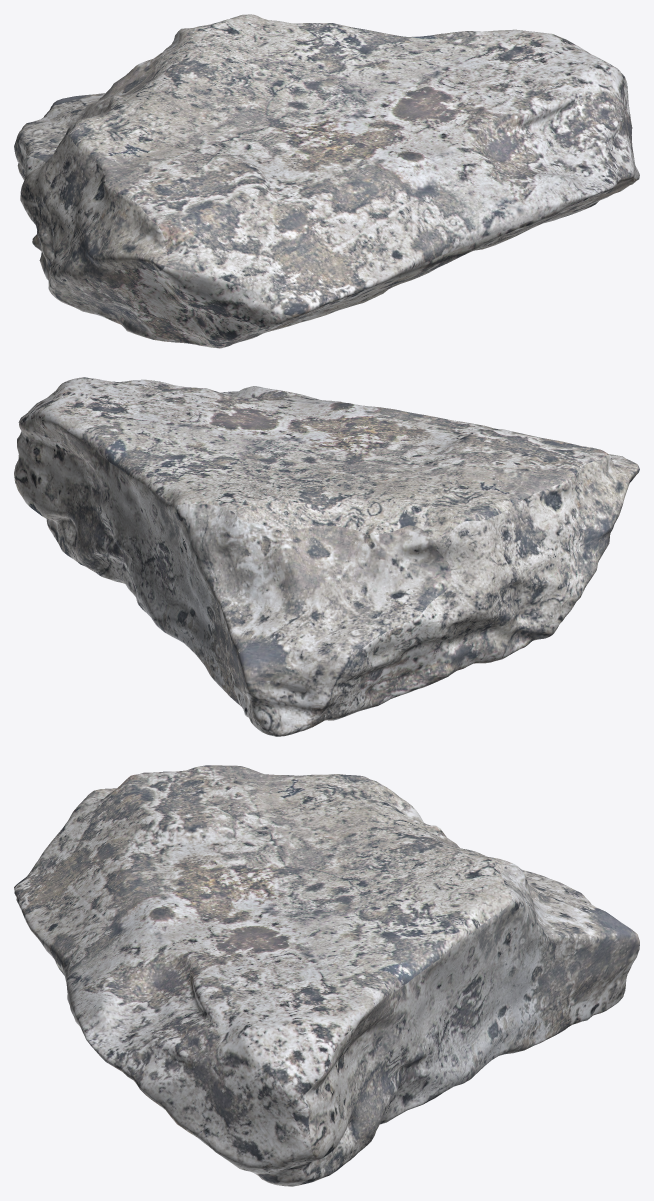
Rendered from SM_Small_Rock_E.fbx.
The picture shows the model from 3 angles, top to bottom: view 1: azimuth 30°, elevation 25°; view 2: azimuth 150°, elevation 25°; view 3: azimuth 270°, elevation 25°; orthographic projection. The views are drawn at different scales.
Visible parts, largest first — view 1: SM_Small_Rock_E_LOD0; view 2: SM_Small_Rock_E_LOD0; view 3: SM_Small_Rock_E_LOD0.
Boxes of the visible parts, box(x1,y1,x2,y2) form: SM_Small_Rock_E_LOD0: box(14, 14, 639, 348); SM_Small_Rock_E_LOD0: box(14, 377, 639, 736); SM_Small_Rock_E_LOD0: box(14, 765, 639, 1186).
Size of the model in its own units: 237 by 212 by 70.19.
1 material, 1 textured.
